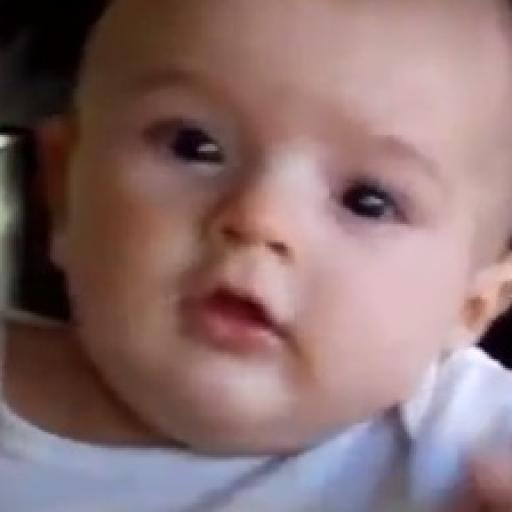Autism: (99, 7, 512, 456)
